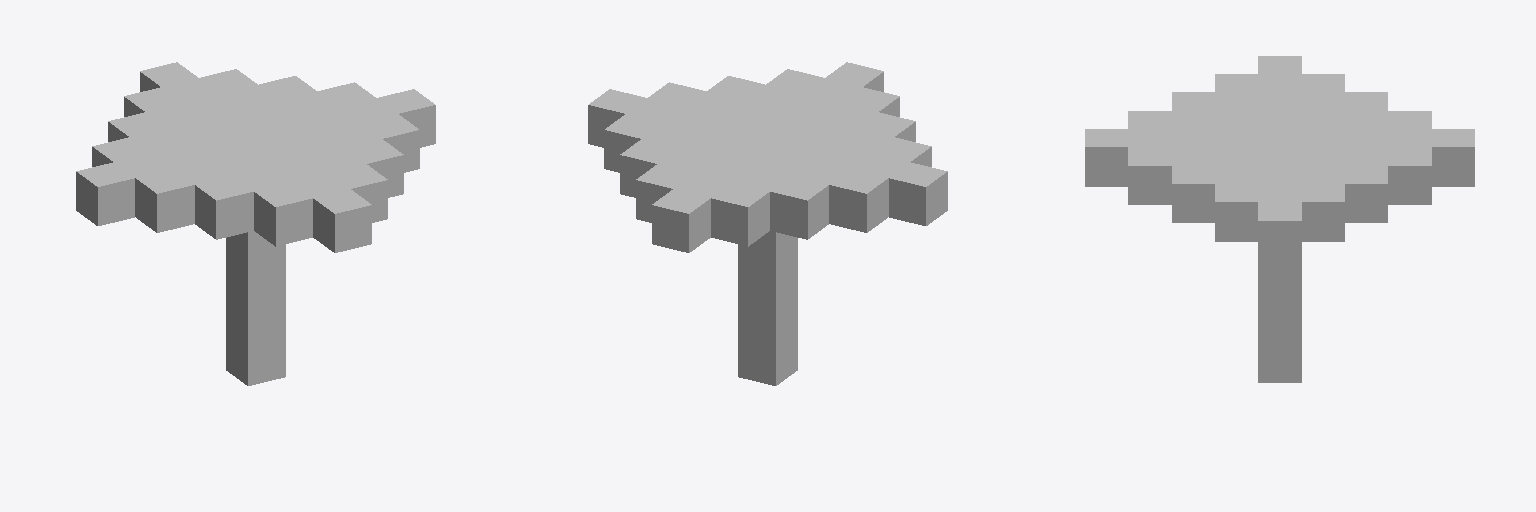
The model's file is table for bar1.obj.
3 renders of one model, left to right at view 1: azimuth 30°, elevation 25°; view 2: azimuth 150°, elevation 25°; view 3: azimuth 270°, elevation 25°, orthographic.
Visible parts, largest first — view 1: object 1; view 2: object 1; view 3: object 1.
Part boxes in pixels (left/top/right/bottom): object 1: left=76, top=62, right=435, bottom=385; object 1: left=588, top=62, right=947, bottom=385; object 1: left=1085, top=56, right=1474, bottom=382.
Bounding box in the file's own units: 0.9 × 0.6 × 0.9.